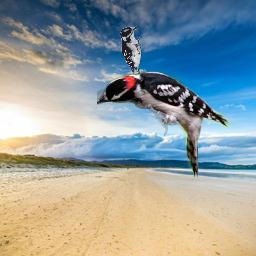Woodpecker: (97, 70, 232, 180), (120, 26, 142, 78)
